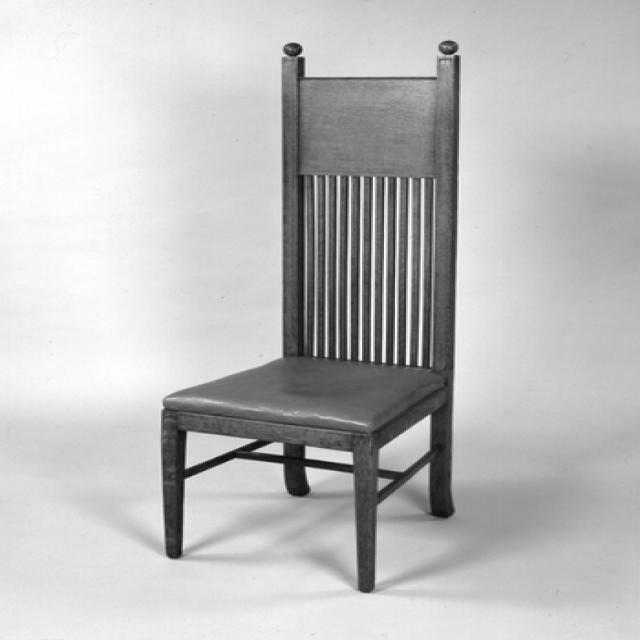chair: (158, 39, 458, 594)
